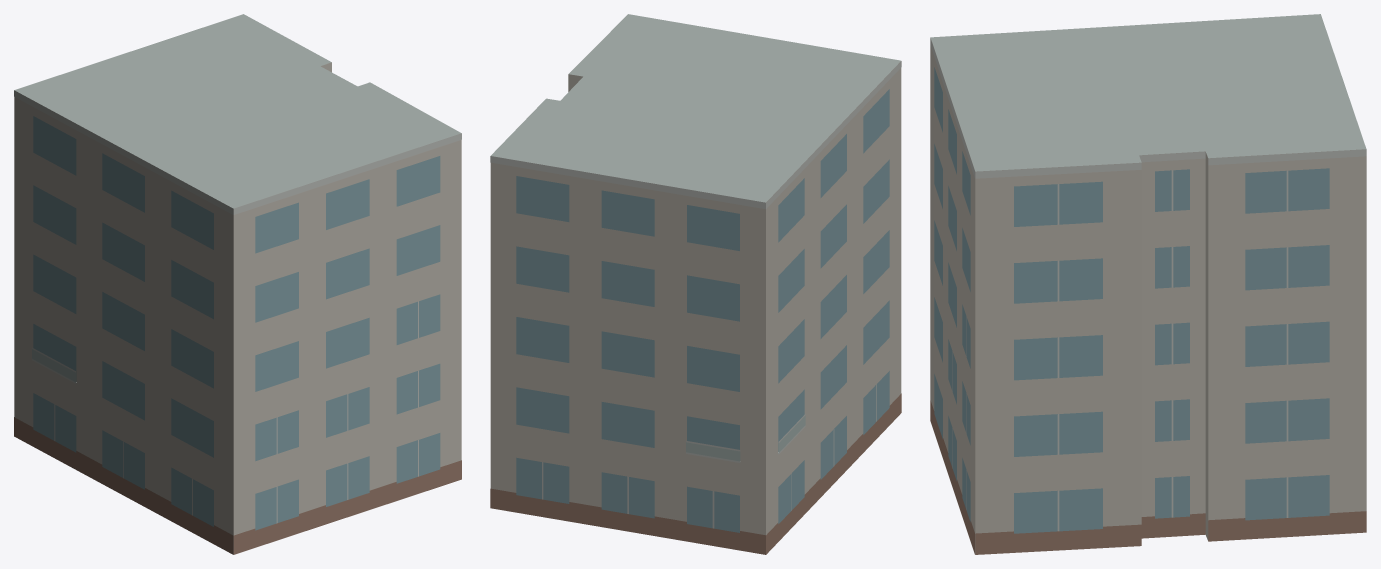
File: survey-upis-32716157.glb
3 views of the same model, side by side, from view 1: azimuth 30°, elevation 25°; view 2: azimuth 150°, elevation 25°; view 3: azimuth 270°, elevation 25° (orthographic). The views are drawn at different scales.
Visible parts, largest first — view 1: survey-upis-32716157.tmp; view 2: survey-upis-32716157.tmp; view 3: survey-upis-32716157.tmp.
Boxes of the visible parts, x1,y1,x2,y2 form: survey-upis-32716157.tmp: (14,14,461,554); survey-upis-32716157.tmp: (490,14,901,554); survey-upis-32716157.tmp: (930,14,1366,554).
Size of the model in its own units: 11.47 by 13 by 13.42.
